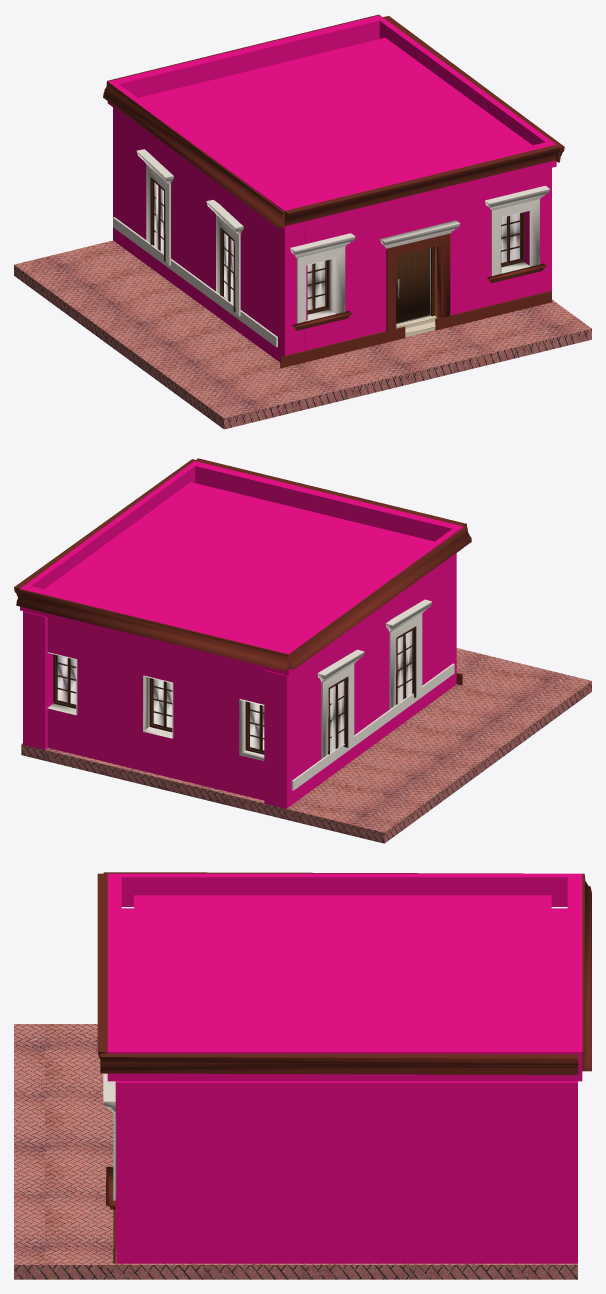
File: casarosa_optim.obj
The picture shows the model from 3 angles, top to bottom: view 1: azimuth 30°, elevation 25°; view 2: azimuth 150°, elevation 25°; view 3: azimuth 270°, elevation 25°; orthographic projection. The views are drawn at different scales.
Parts seen in each view (by area): view 1: 3dSolid.001; view 2: 3dSolid.001; view 3: 3dSolid.001.
Boxes of the visible parts, x1,y1,x2,y2 form: 3dSolid.001: (14, 14, 591, 429); 3dSolid.001: (14, 458, 591, 843); 3dSolid.001: (14, 872, 591, 1279).
Size of the model in its own units: 12.53 by 5.42 by 12.46.
